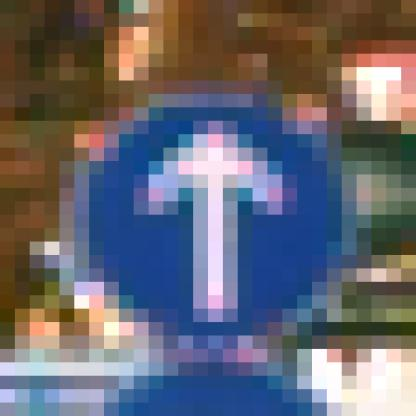AheadOnly: (75, 82, 343, 337)
